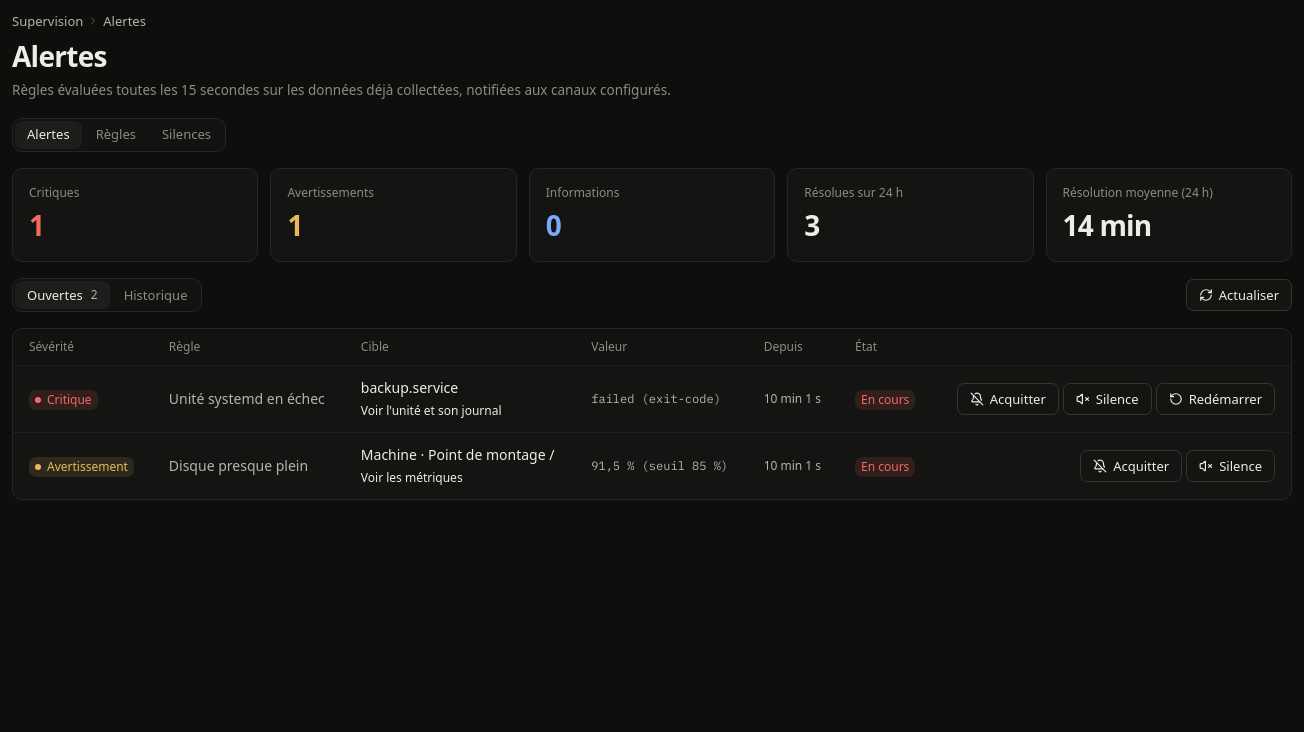
Test: AlertsPage › lets an operator restart the failed unit of an alert after confirmation
Click the button "Redémarrer".
click(1215, 399)  # box [1156,383,1275,415]
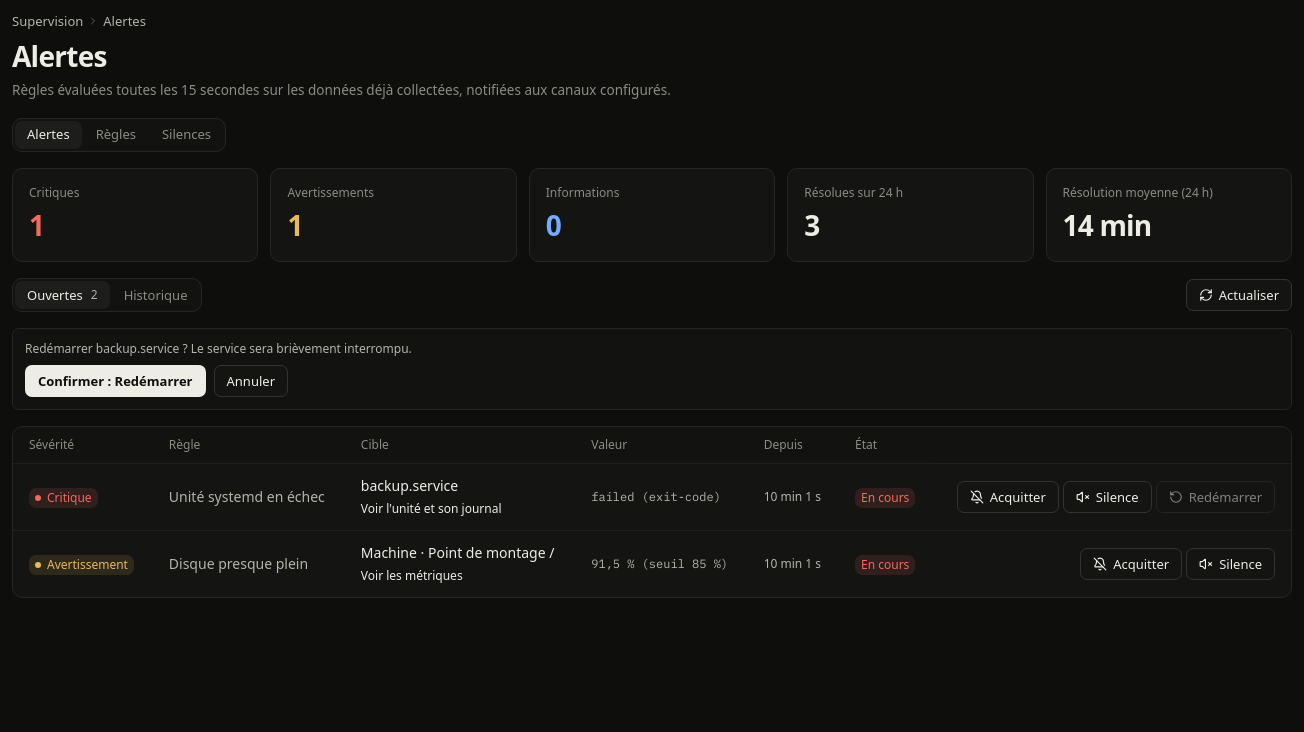
Click the button "Confirmer : Redémarrer".
click(115, 381)  # box [25,365,206,397]
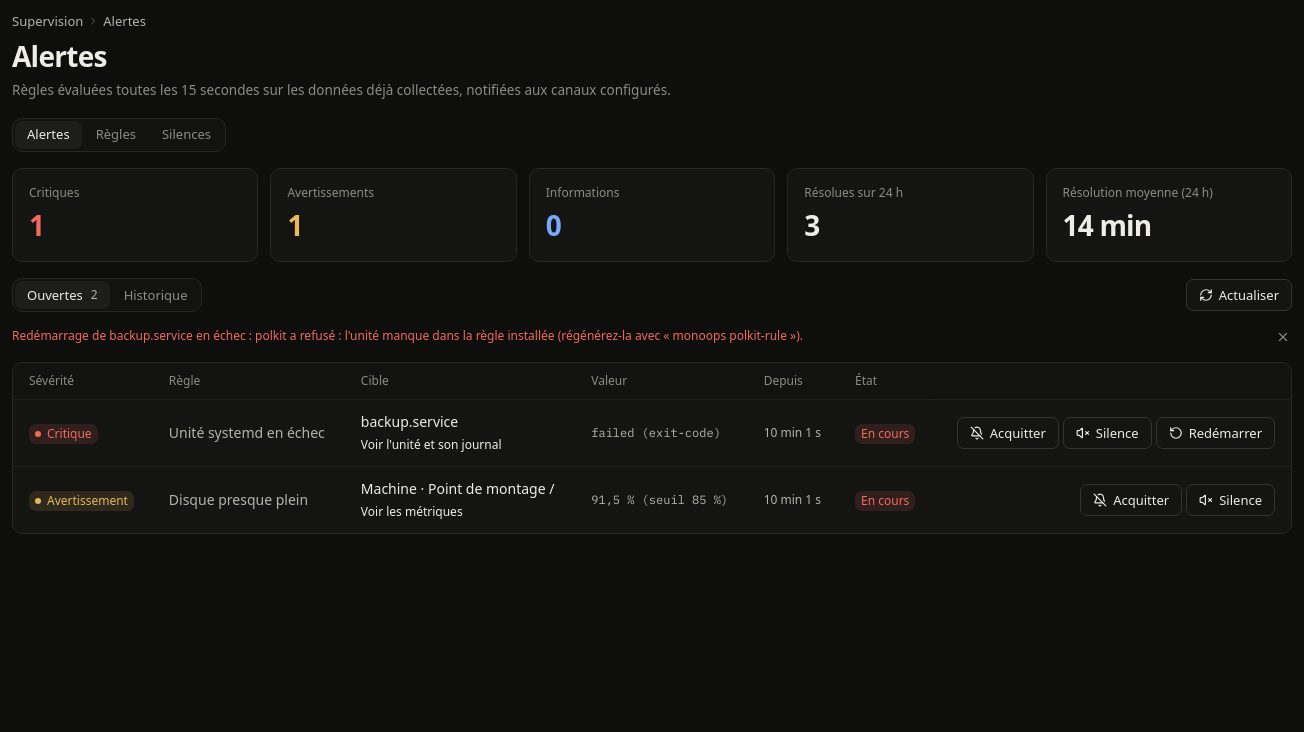
Result: the text "monoops polkit-rule" is shown at [12,327,803,344]
